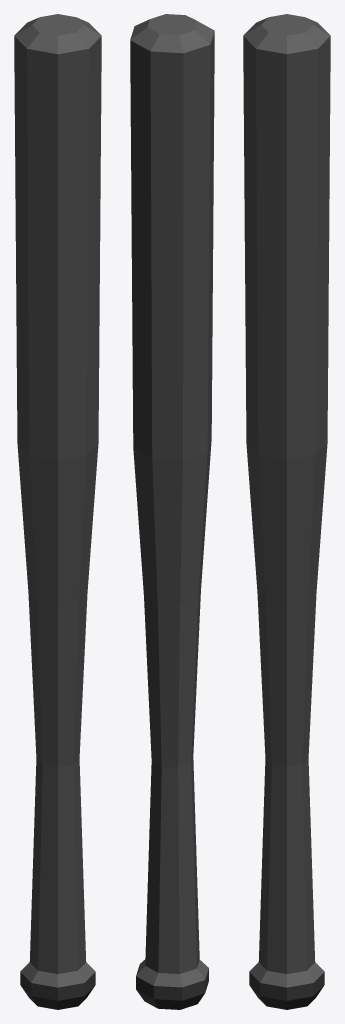
Rendered from baseballbat_2.fbx.
The picture shows the model from 3 angles, left to right: view 1: azimuth 90°, elevation 25°; view 2: azimuth 150°, elevation 25°; view 3: azimuth 270°, elevation 25°; orthographic projection.
Visible parts, largest first — view 1: baseballbat_2; view 2: baseballbat_2; view 3: baseballbat_2.
Boxes of the visible parts, x1=… form: baseballbat_2: x1=14, y1=14, x2=101, y2=1009; baseballbat_2: x1=130, y1=14, x2=214, y2=1009; baseballbat_2: x1=243, y1=14, x2=330, y2=1009.
Size of the model in its own units: 12.83 by 157 by 12.83.
1 material, 1 textured.
